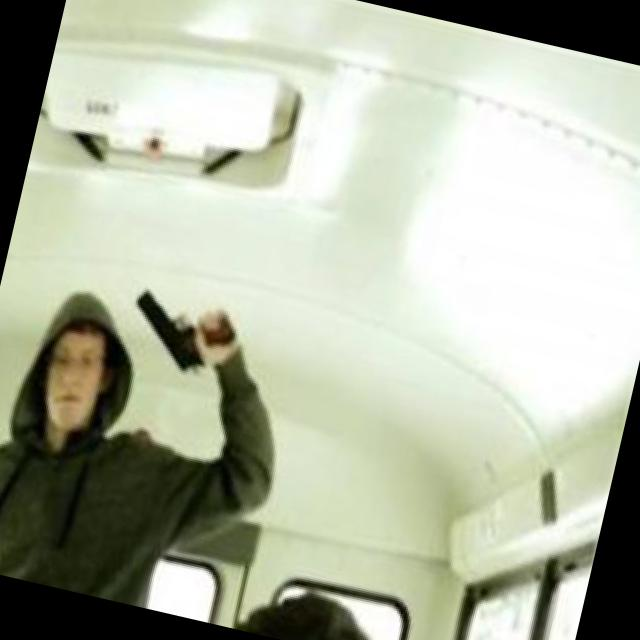Guns: (110, 279, 248, 388)
